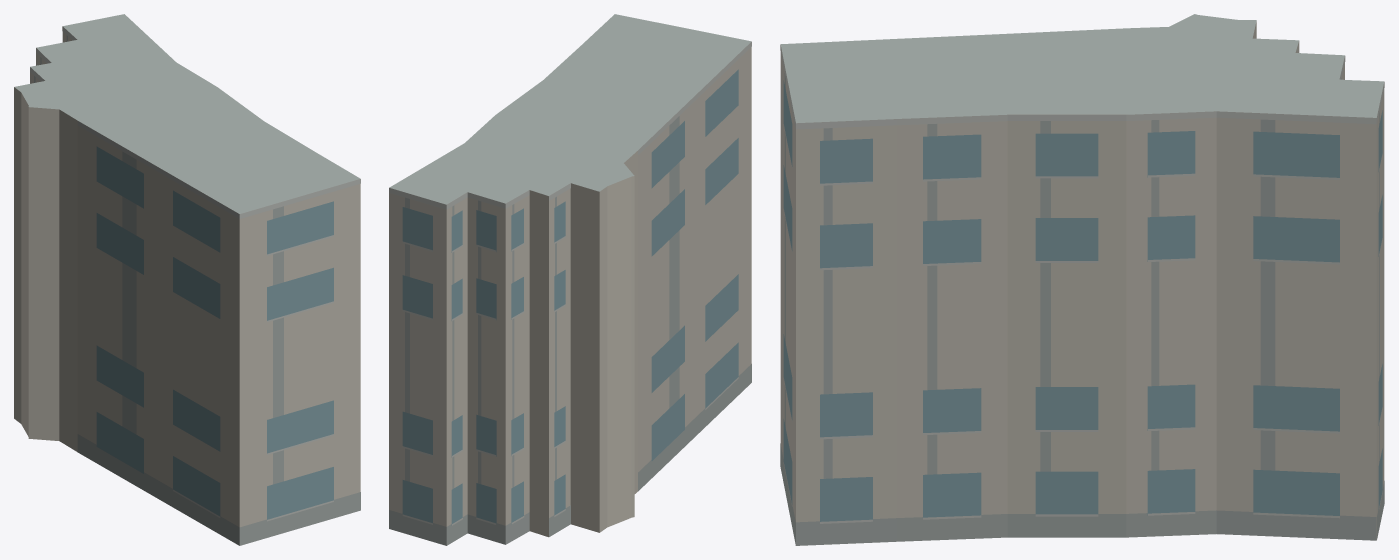
Rendered from survey-upis-32477374.glb.
3 renders of one model, left to right at view 1: azimuth 30°, elevation 25°; view 2: azimuth 150°, elevation 25°; view 3: azimuth 270°, elevation 25°, orthographic. The views are drawn at different scales.
Visible parts, largest first — view 1: survey-upis-32477374.tmp; view 2: survey-upis-32477374.tmp; view 3: survey-upis-32477374.tmp.
Boxes of the visible parts, box(x1,y1,x2,y2) form: survey-upis-32477374.tmp: box(14, 14, 360, 545); survey-upis-32477374.tmp: box(389, 14, 751, 545); survey-upis-32477374.tmp: box(780, 14, 1384, 545).
Bounding box in the file's own units: 9.01 × 16.24 × 21.03.
